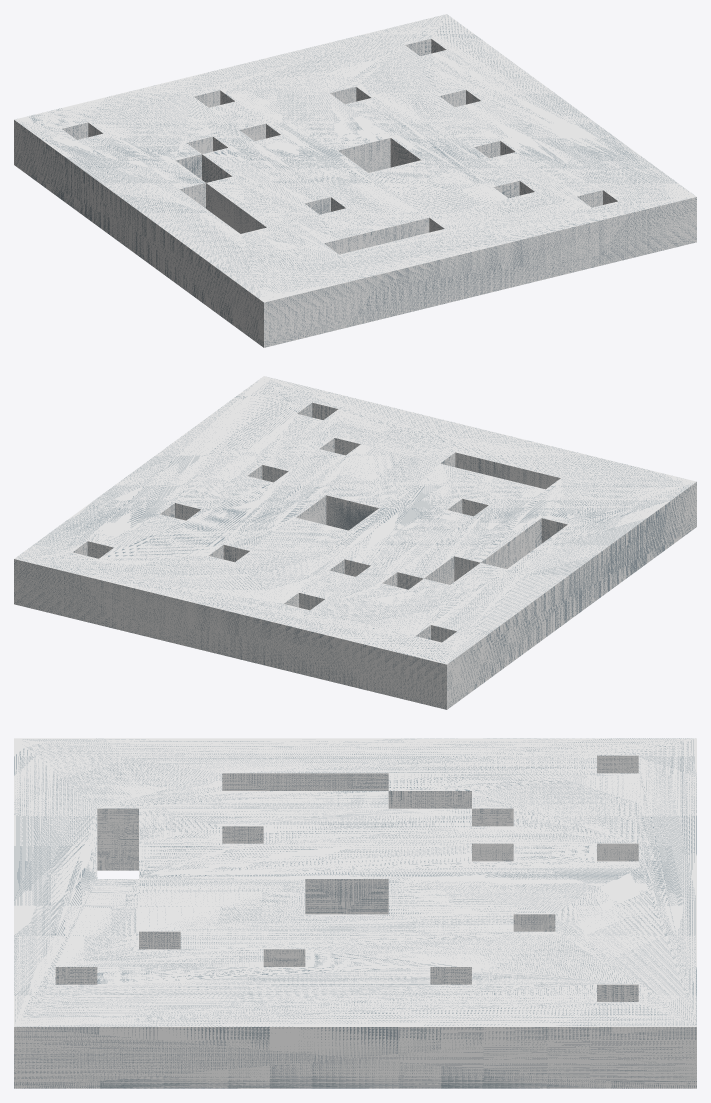
3 renders of one model, top to bottom at view 1: azimuth 30°, elevation 25°; view 2: azimuth 150°, elevation 25°; view 3: azimuth 270°, elevation 25°, orthographic. The views are drawn at different scales.
Visible parts, largest first — view 1: Model; view 2: Model; view 3: Model.
Boxes of the visible parts, x1=… form: Model: x1=14, y1=14, x2=696, y2=347; Model: x1=14, y1=376, x2=696, y2=709; Model: x1=14, y1=738, x2=696, y2=1088.
Bounding box in the file's own units: 5 × 0.5 × 5.
